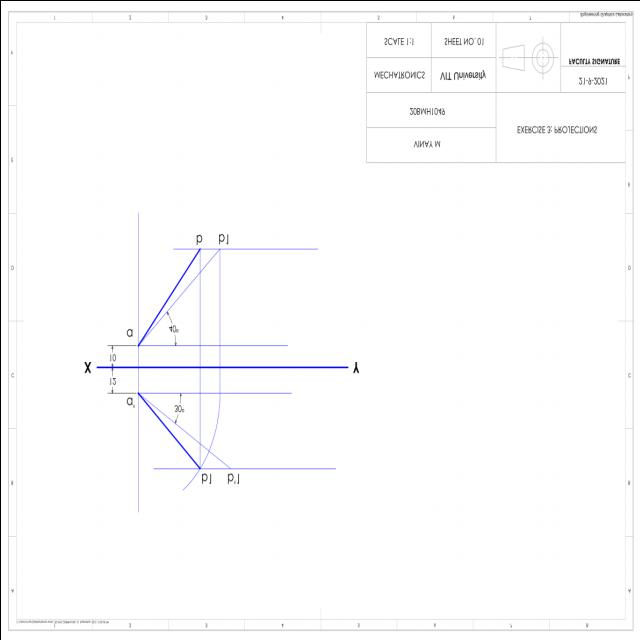Drawings: (100, 226, 350, 492)
